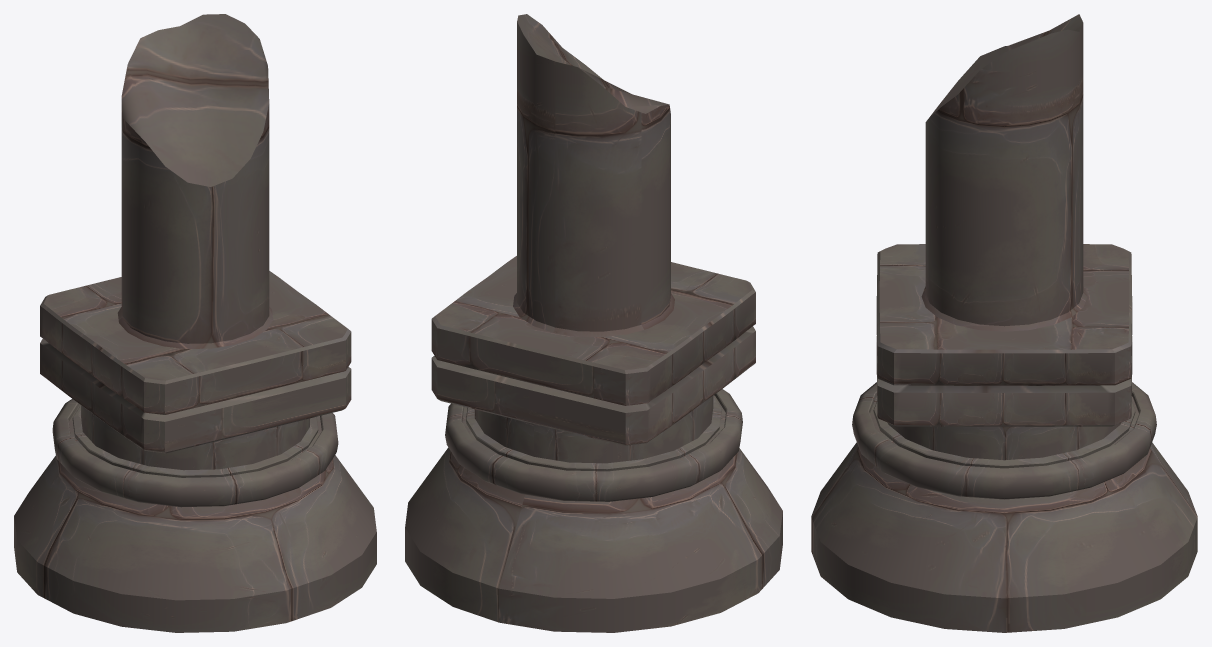
Rendered from PillarDamaged2_2.fbx.
3 views of the same model, side by side, from view 1: azimuth 30°, elevation 25°; view 2: azimuth 150°, elevation 25°; view 3: azimuth 270°, elevation 25° (orthographic). The views are drawn at different scales.
Parts seen in each view (by area): view 1: pasted__pasted__polySurface72; view 2: pasted__pasted__polySurface72; view 3: pasted__pasted__polySurface72.
Part boxes in pixels (<box>): pasted__pasted__polySurface72: <box>14,14,376,632</box>; pasted__pasted__polySurface72: <box>405,14,782,632</box>; pasted__pasted__polySurface72: <box>811,14,1197,632</box>.
Size of the model in its own units: 55.85 by 86.8 by 55.85.
